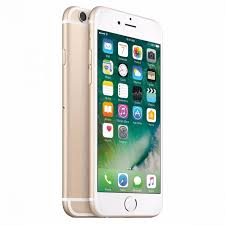iphone6: (58, 2, 163, 219), (85, 3, 164, 219)
